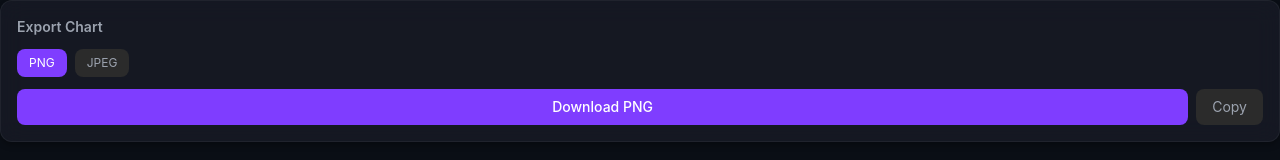
Test case: ChartExport › updates download button text when format changes
Click the button "JPEG".
click(102, 63)  # box 75,49 -> 129,77
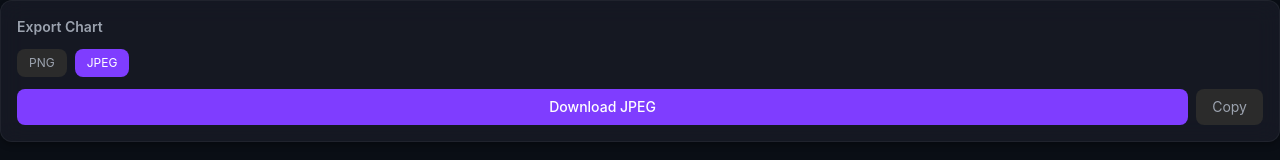
expect the button "Download JPEG" is shown: met, box 17,89 -> 1188,125
